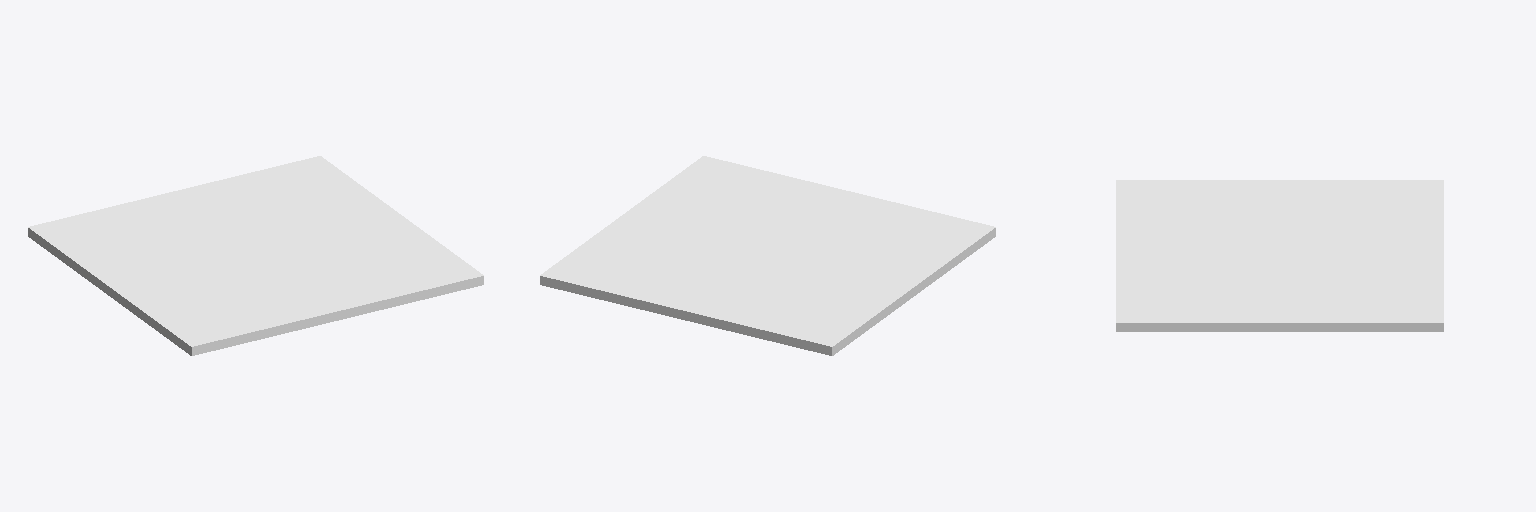
File: ParkingLotBitsStop.obj
3 renders of one model, left to right at view 1: azimuth 30°, elevation 25°; view 2: azimuth 150°, elevation 25°; view 3: azimuth 270°, elevation 25°, orthographic.
Parts seen in each view (by area): view 1: object 1; view 2: object 1; view 3: object 1.
Boxes of the visible parts, x1,y1,x2,y2 form: object 1: [28, 156, 483, 355]; object 1: [540, 156, 995, 355]; object 1: [1116, 180, 1443, 331].
Size of the model in its own units: 3.3 by 0.1 by 3.2.